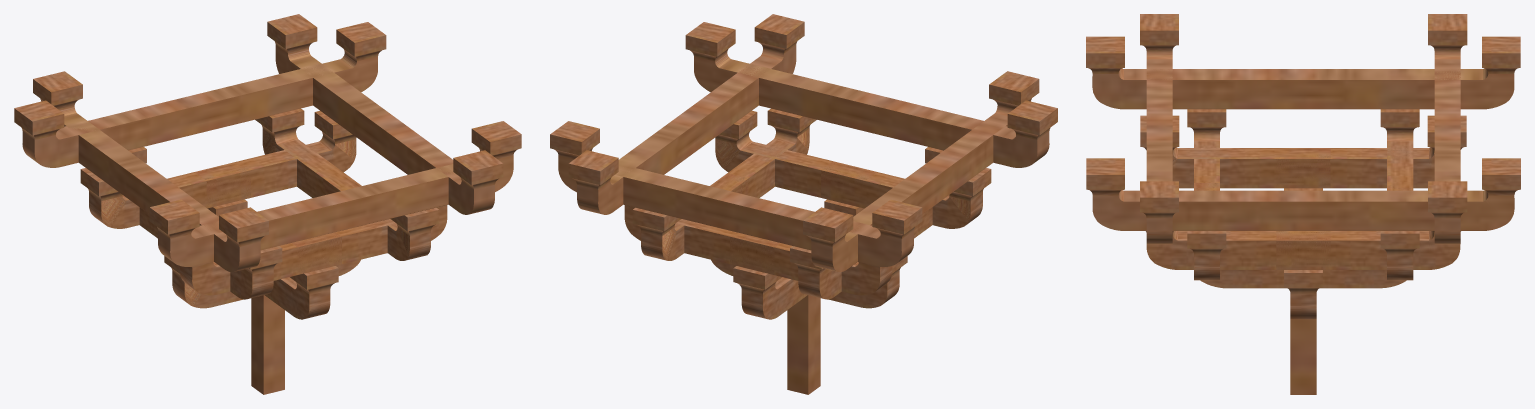
The picture shows the model from 3 angles, left to right: view 1: azimuth 30°, elevation 25°; view 2: azimuth 150°, elevation 25°; view 3: azimuth 270°, elevation 25°; orthographic projection. The views are drawn at different scales.
Visible parts, largest first — view 1: R6L7; view 2: R6L7; view 3: R6L7.
Boxes of the visible parts, box(x1,y1,x2,y2) form: R6L7: box(14, 14, 521, 394); R6L7: box(550, 14, 1057, 394); R6L7: box(1086, 14, 1520, 394).
Bounding box in the file's own units: 40.02 × 28.81 × 40.04.
1 material, 1 textured.
